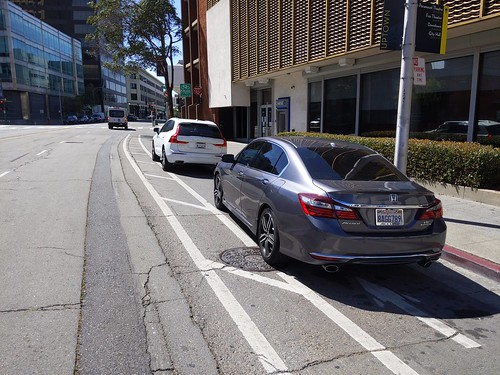building: (184, 1, 499, 128), (1, 1, 79, 121), (76, 1, 121, 118), (119, 67, 175, 123)
car: (214, 139, 450, 285), (151, 117, 228, 173), (103, 105, 132, 134)
street: (2, 127, 438, 375)
tree: (91, 5, 184, 116)
